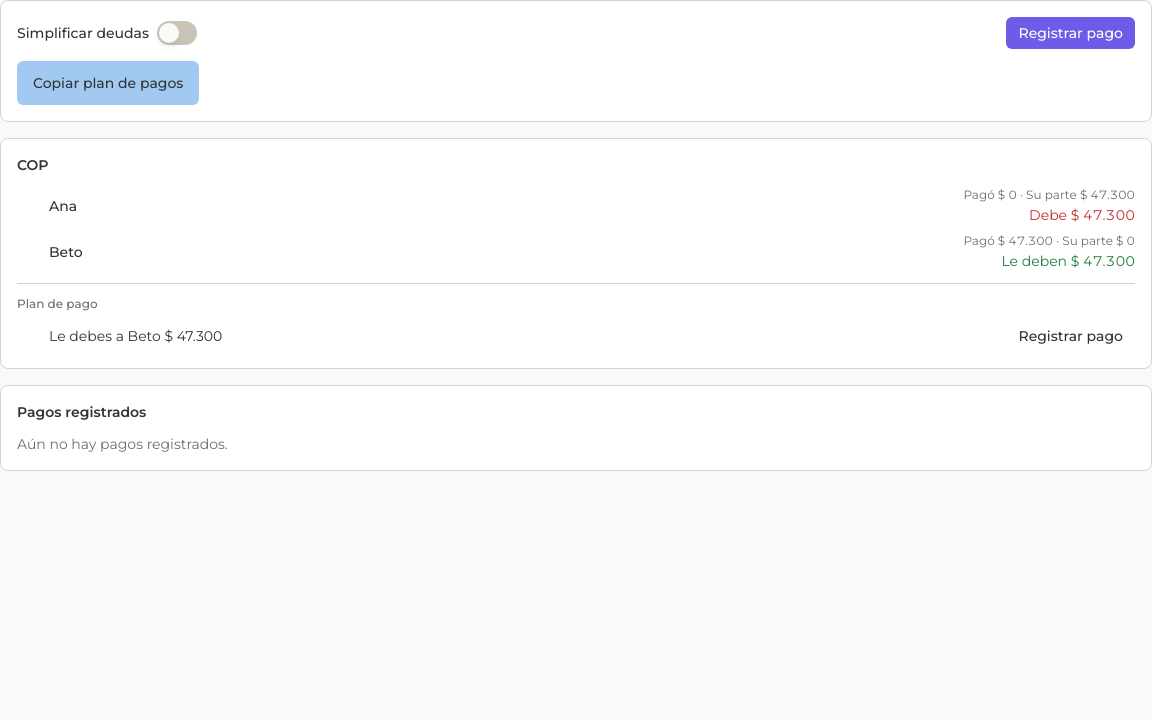
Scenario: SettleUpDialog › accepts an over-payment: submits the larger amount and the refetched balances flip the sign
Click the button "Registrar pago" in the row of "Le debes a Beto $ 47.300" at (1071, 336), box [1006, 320, 1135, 352]
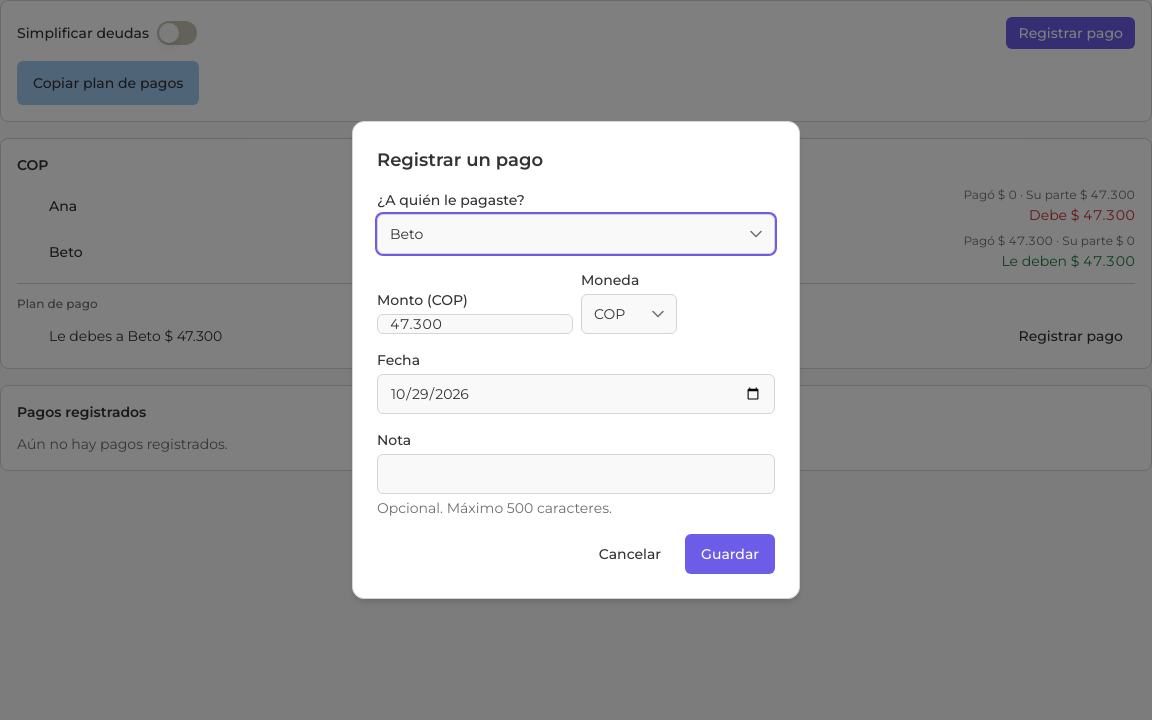
Clear the field labelled "Monto (COP)" at (475, 324), box [377, 314, 573, 334]
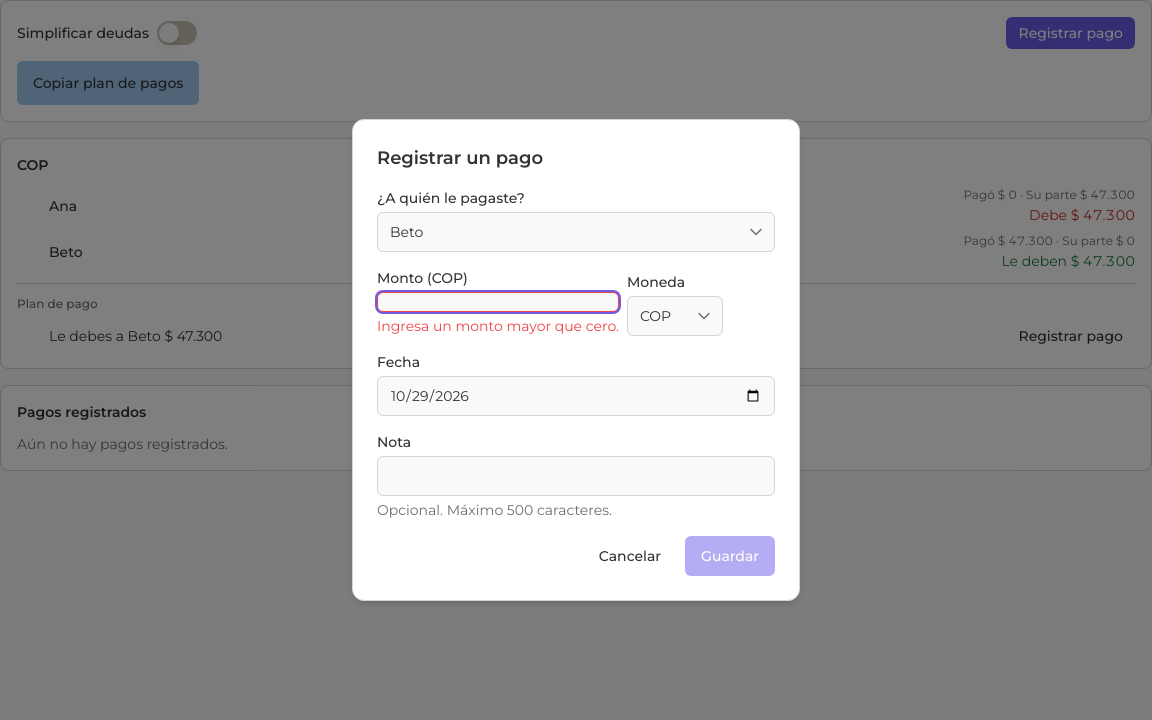
Type "50000" into the field labelled "Monto (COP)" at (498, 302), box [377, 292, 619, 312]
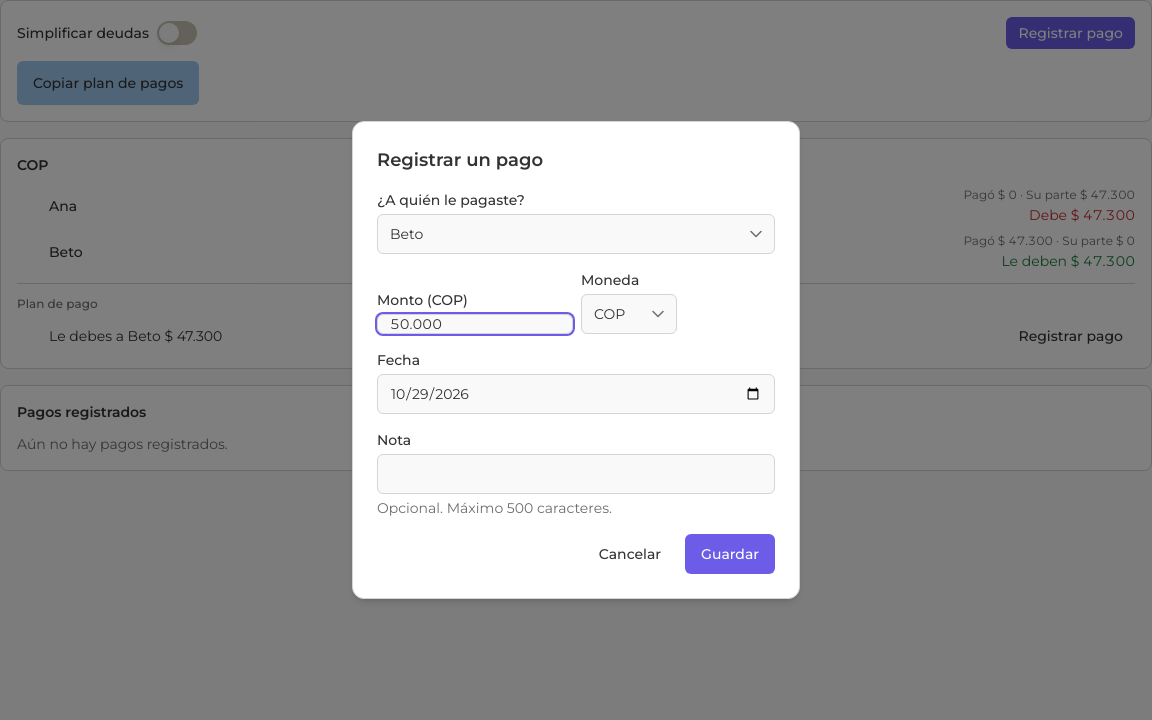
Click the button "Guardar" at (730, 554), box [685, 534, 775, 574]
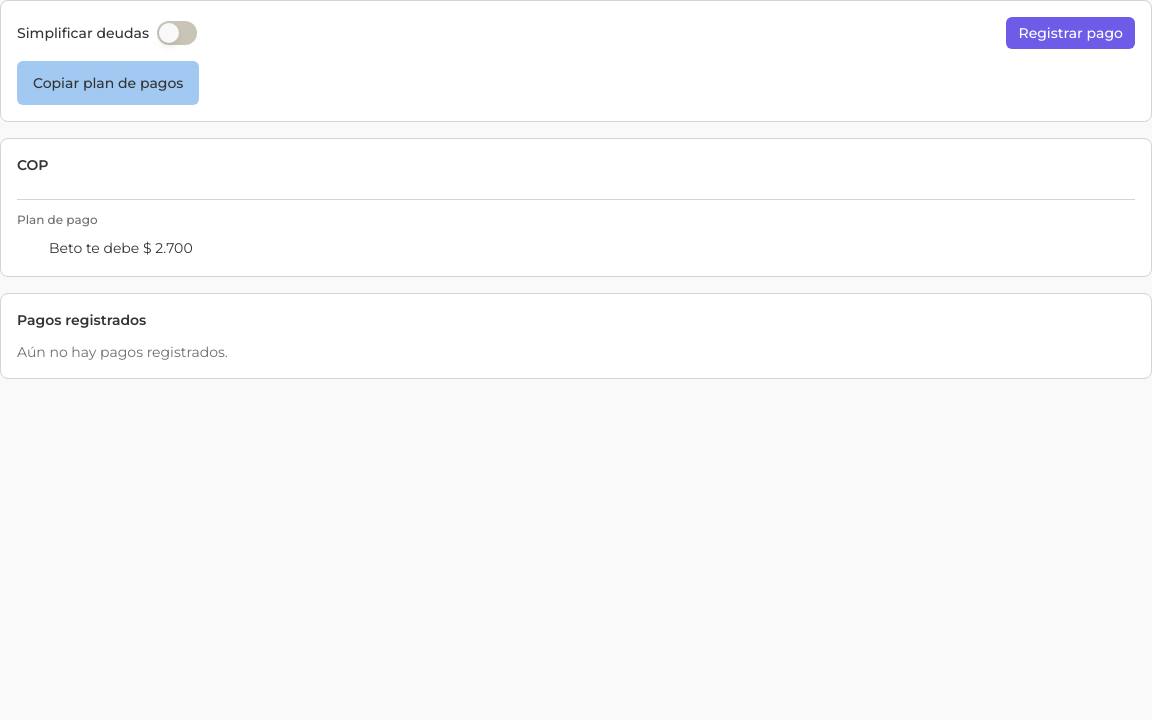
expect the text "Beto te debe $ 2.700" is shown: met, box [49, 239, 193, 257]
